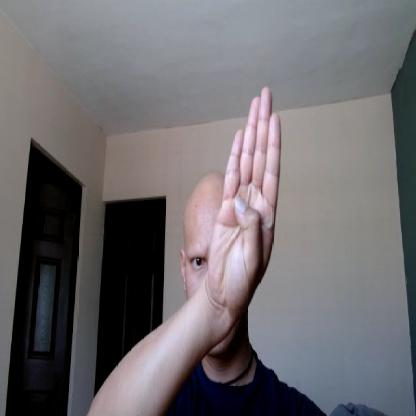B: (208, 87, 282, 312)
